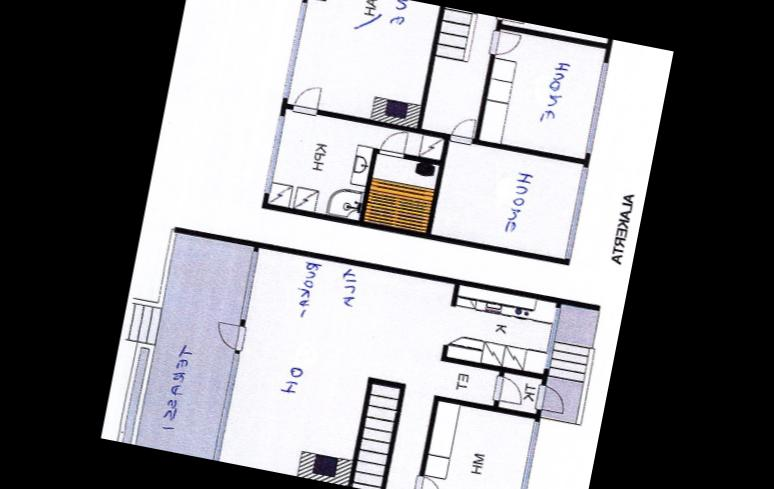door: (210, 316, 250, 352), (530, 380, 570, 416), (289, 78, 326, 116), (488, 372, 528, 406), (487, 25, 523, 59), (378, 125, 410, 161), (448, 110, 477, 143), (409, 471, 449, 489)
window: (210, 348, 244, 462), (580, 53, 614, 163), (279, 0, 309, 101), (562, 162, 592, 261), (260, 107, 290, 198), (512, 415, 544, 489), (235, 246, 262, 324), (540, 304, 566, 373)
